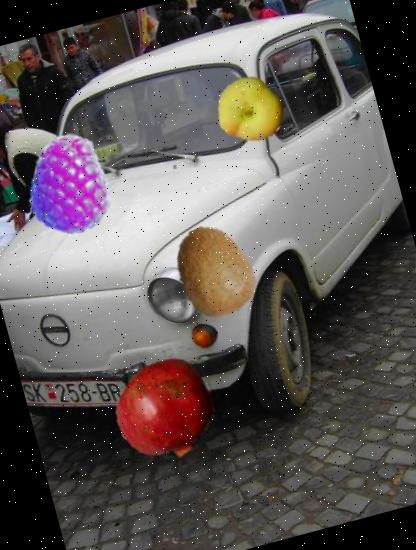Kiwi: (158, 214, 273, 330)
Peach: (210, 70, 292, 152)
Pomegranate: (104, 349, 226, 472)
Raspberry: (12, 122, 136, 246)
